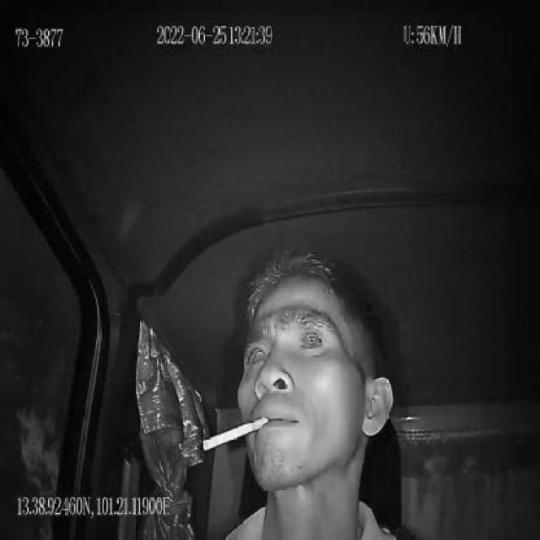smoking: (201, 416, 270, 454)
